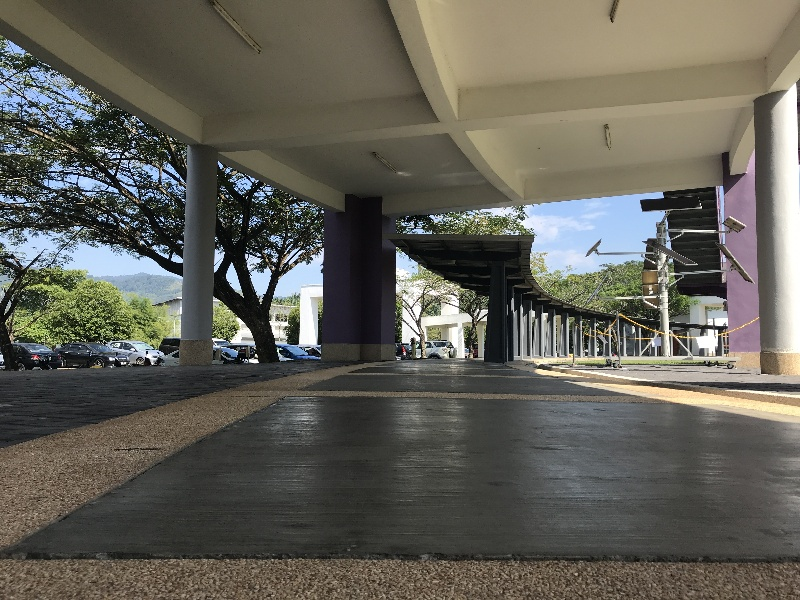Block D Pillar 5: (7, 7, 800, 562)
pillar: (729, 72, 800, 402), (308, 183, 407, 376), (163, 139, 227, 368), (718, 138, 766, 385), (481, 260, 516, 368)
